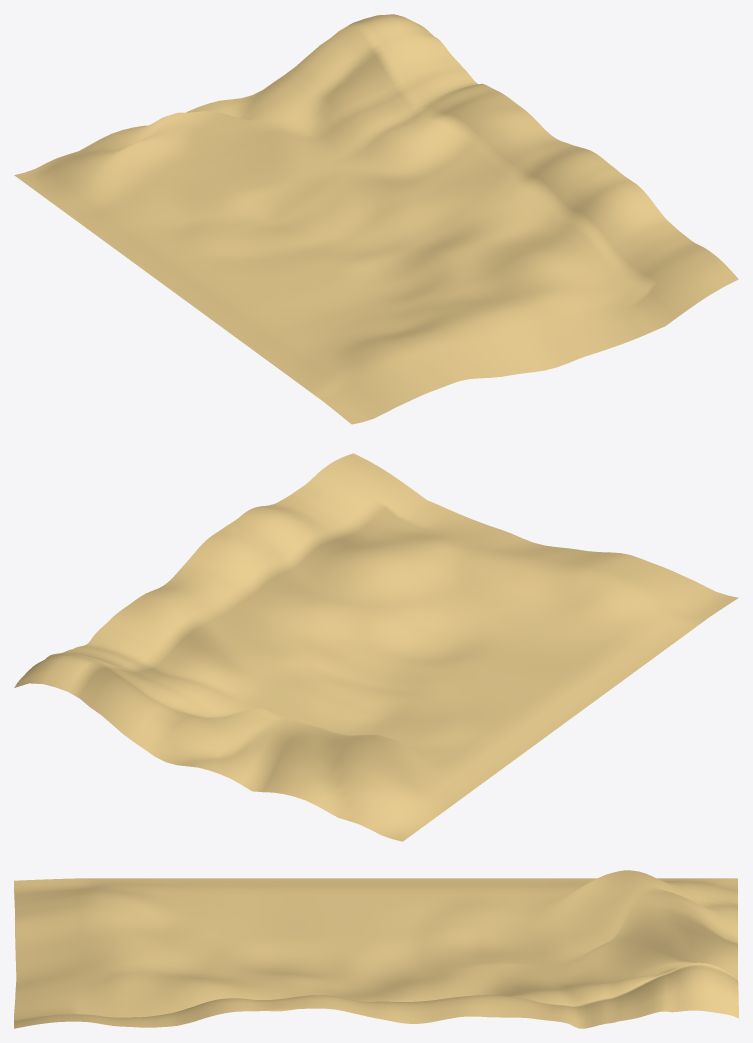
The model's file is beach_variation_2.fbx.
The picture shows the model from 3 angles, top to bottom: view 1: azimuth 30°, elevation 25°; view 2: azimuth 150°, elevation 25°; view 3: azimuth 270°, elevation 25°; orthographic projection. The views are drawn at different scales.
Parts seen in each view (by area): view 1: Beach; view 2: Beach; view 3: Beach.
Boxes of the visible parts, x1,y1,x2,y2 form: Beach: (14,14,738,424); Beach: (14,453,738,841); Beach: (14,870,738,1028).
Size of the model in its own units: 125 by 26.15 by 188.
